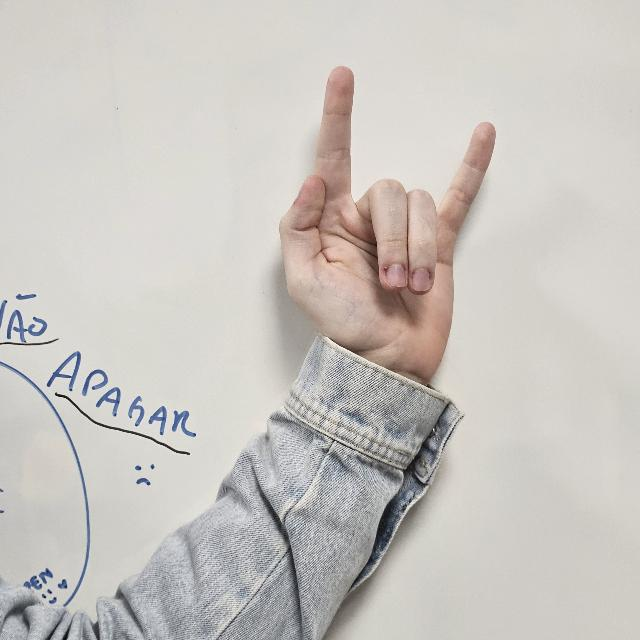L: (284, 66, 498, 382)
